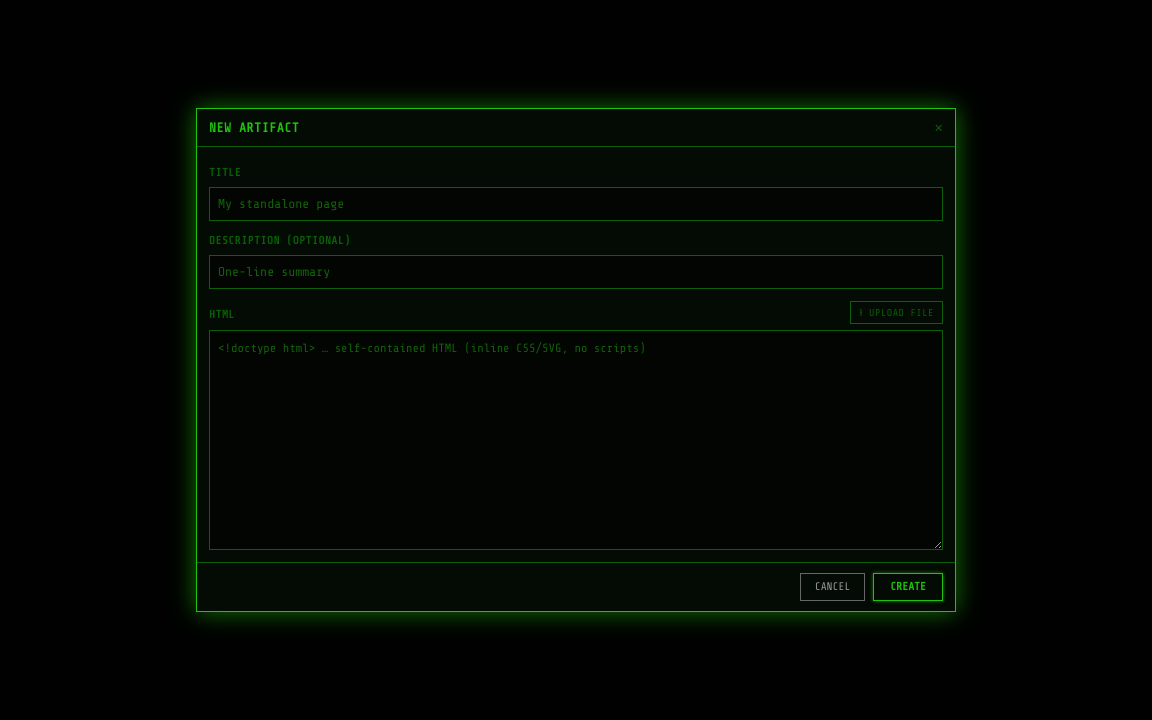
Test case: CreateArtifactForm (adj-j7az6.3.4) › shows an error and preserves the draft when create fails
Step 1. Type "Draft Title" into the field labelled "TITLE" → [576, 204], box [209,187,943,221]
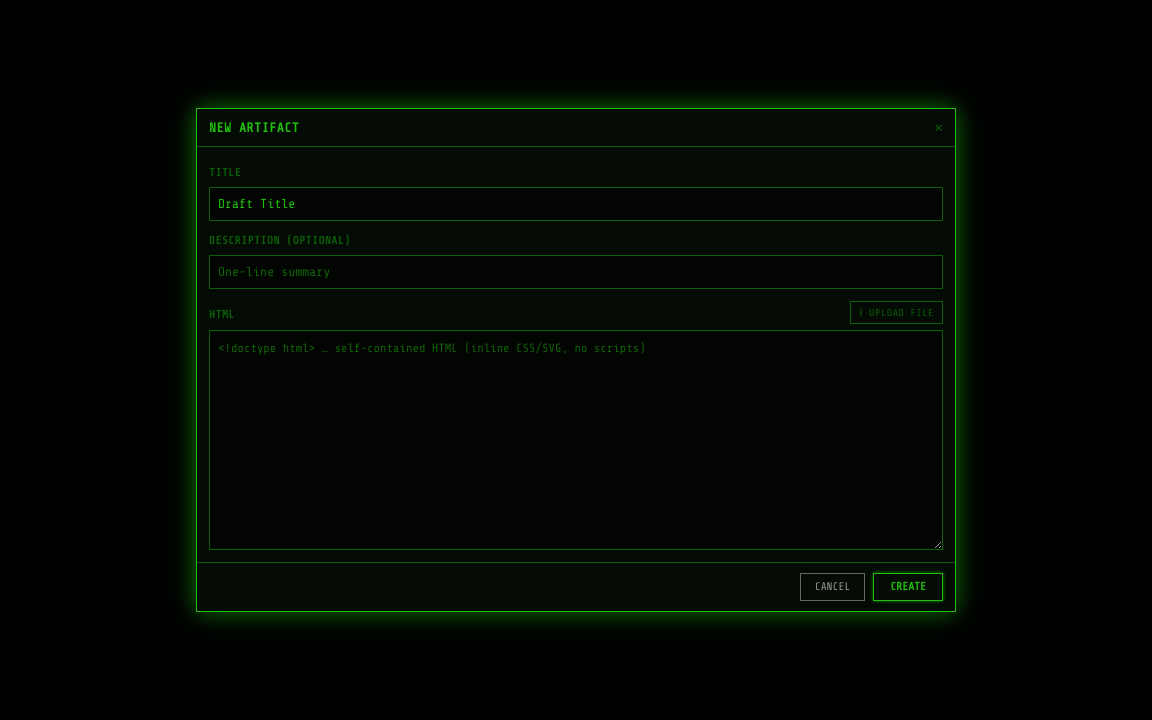
Step 2. Replace the text in the text box labelled "HTML" with "<h1>Draft</h1>" → [576, 440], box [209,330,943,550]
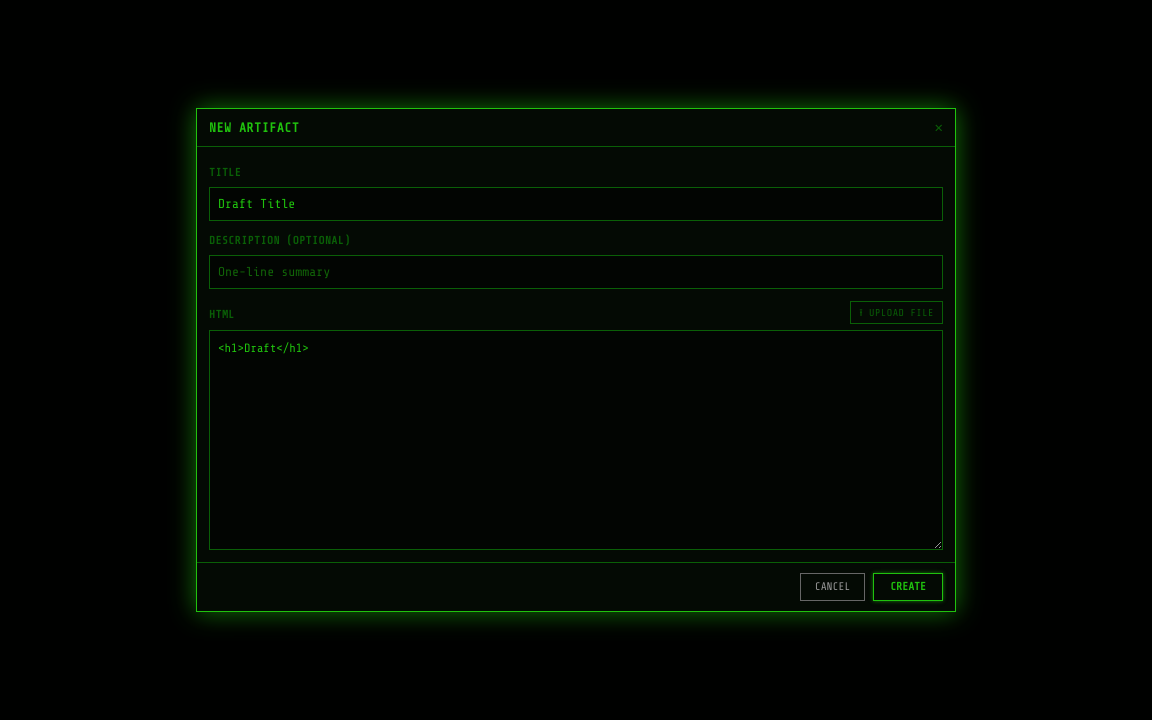
Step 3. Click the button "CREATE" → [908, 587], box [873,573,943,601]
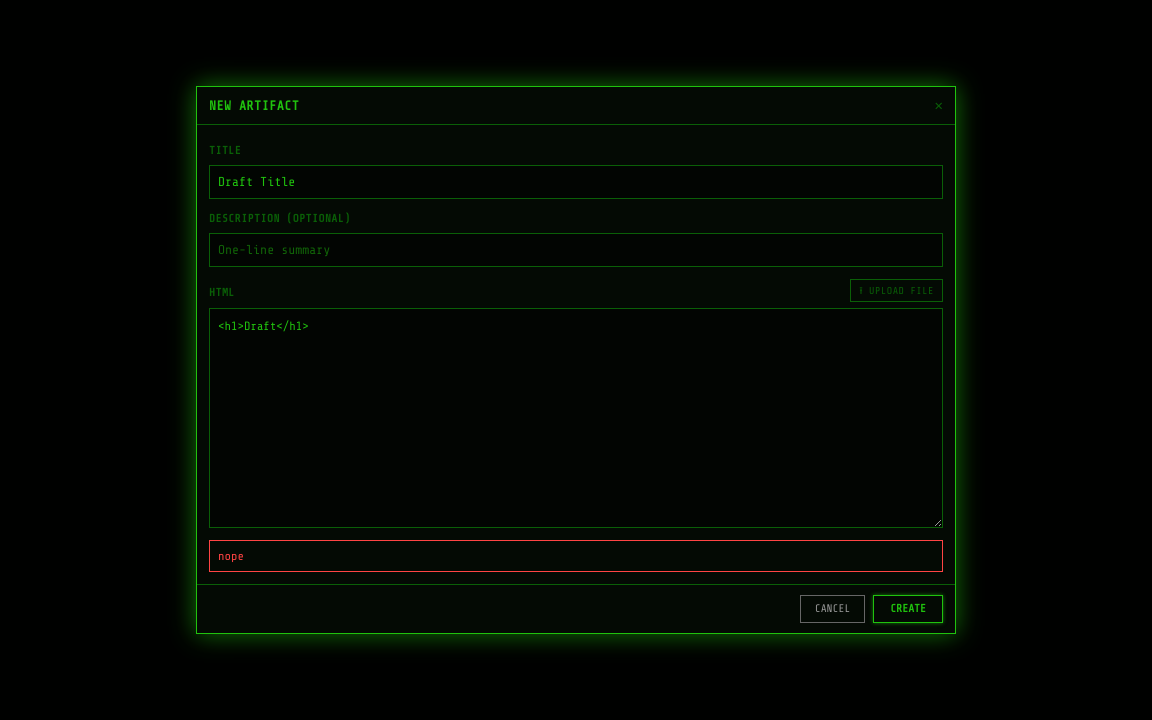
Check: the text "nope" is shown, box [209,540,943,572]
